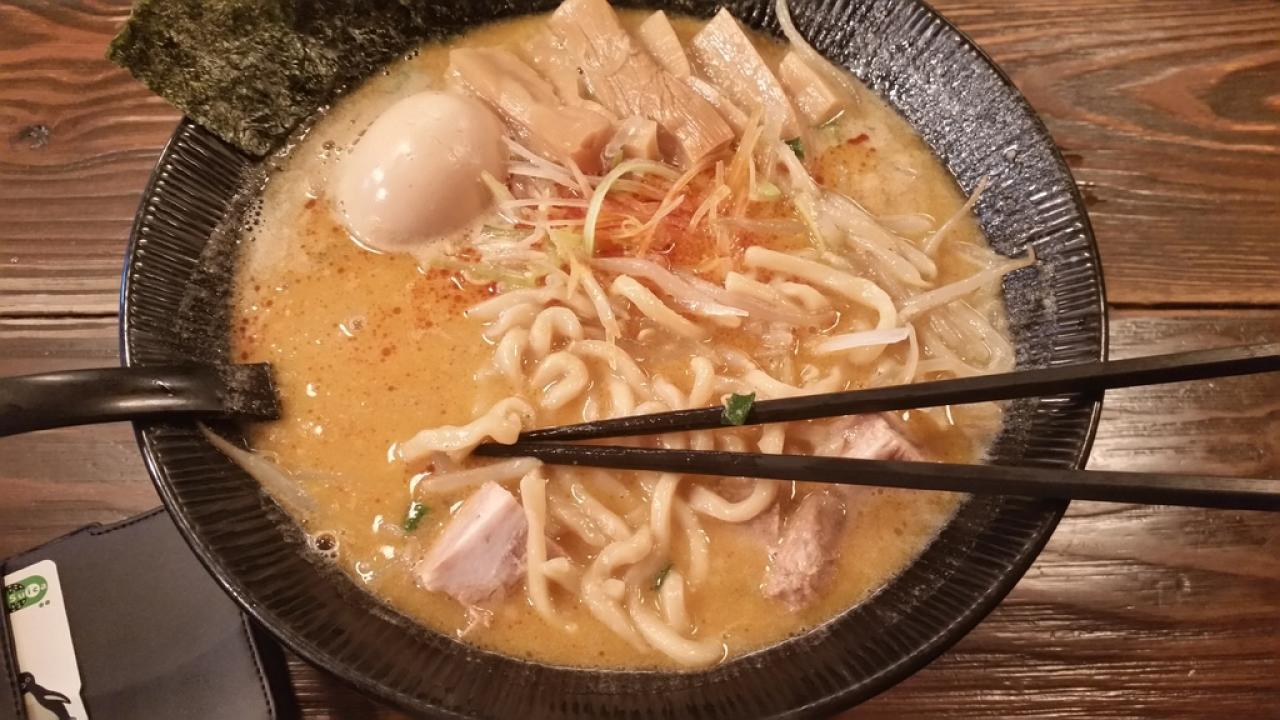chopstick: (472, 340, 1280, 518)
